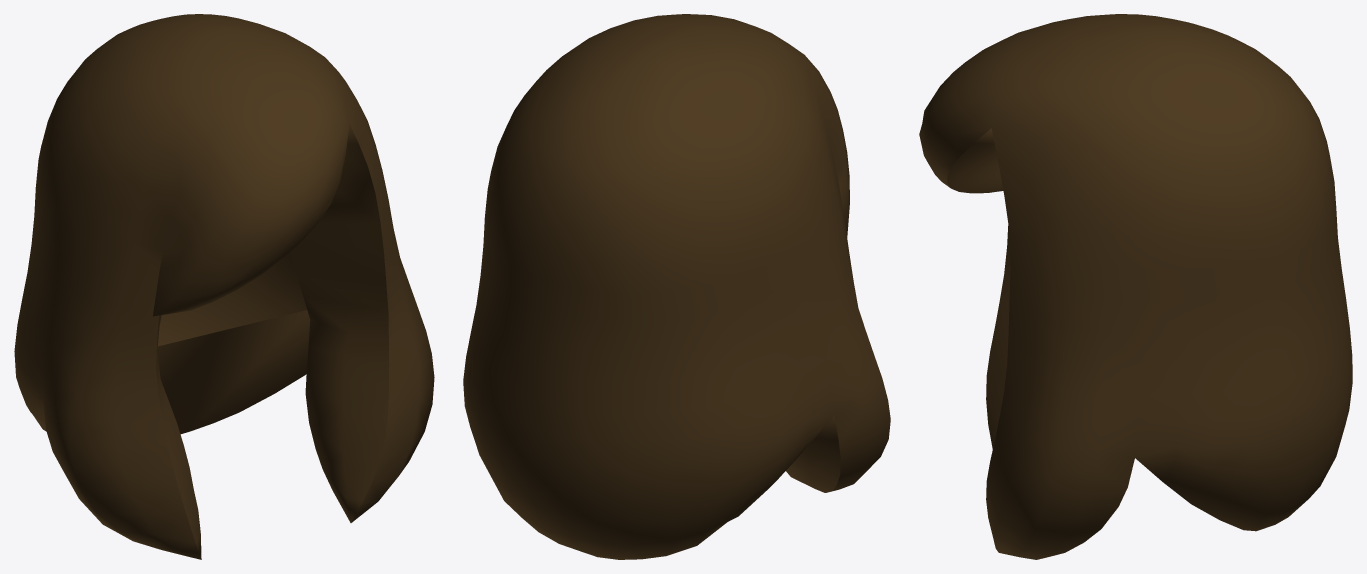
File: hair_hair_026.gltf
3 renders of one model, left to right at view 1: azimuth 30°, elevation 25°; view 2: azimuth 150°, elevation 25°; view 3: azimuth 270°, elevation 25°, orthographic. The views are drawn at different scales.
Visible parts, largest first — view 1: hair.026; view 2: hair.026; view 3: hair.026.
Boxes of the visible parts, <box> form: hair.026: <box>14,14,434,559</box>; hair.026: <box>463,14,890,559</box>; hair.026: <box>919,14,1352,559</box>.
Size of the model in its own units: 0.8458 by 1.03 by 0.8363.
